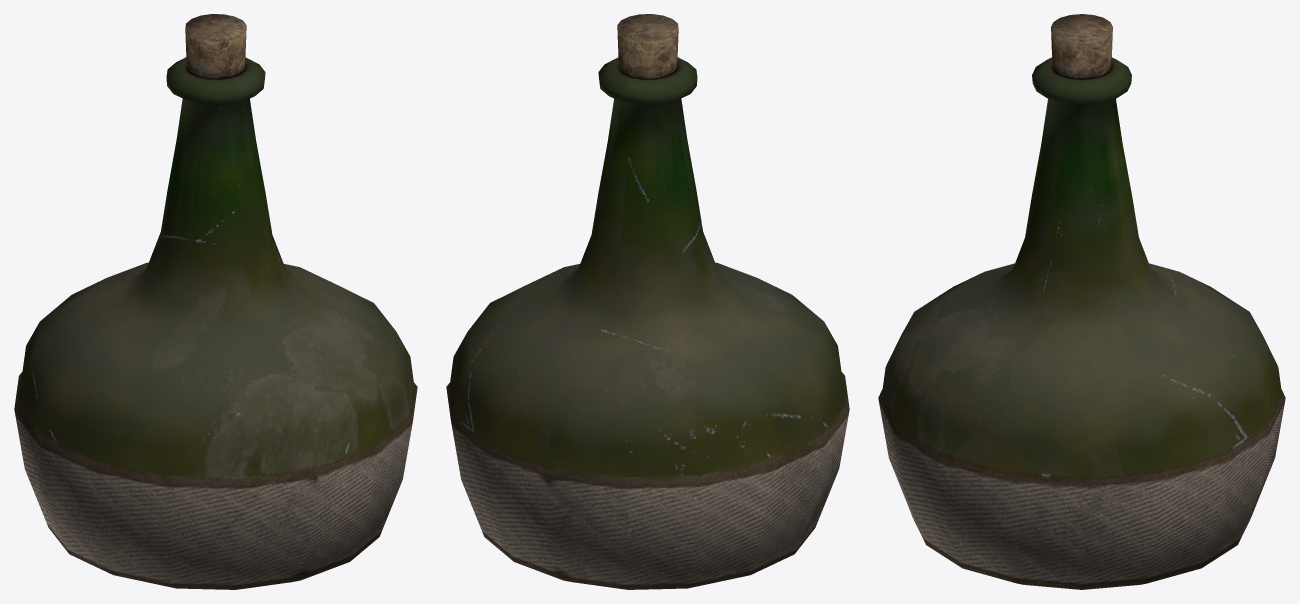
The model's file is bottle.glb.
3 views of the same model, side by side, from view 1: azimuth 30°, elevation 25°; view 2: azimuth 150°, elevation 25°; view 3: azimuth 270°, elevation 25° (orthographic).
Parts seen in each view (by area): view 1: trn_BottleShort; view 2: trn_BottleShort; view 3: trn_BottleShort.
Boxes of the visible parts, x1,y1,x2,y2 form: trn_BottleShort: (14, 14, 417, 589); trn_BottleShort: (446, 14, 849, 589); trn_BottleShort: (878, 14, 1285, 589).
Bounding box in the file's own units: 0.2365 × 0.322 × 0.2365.
Materials: 1 (1 with a texture image).
